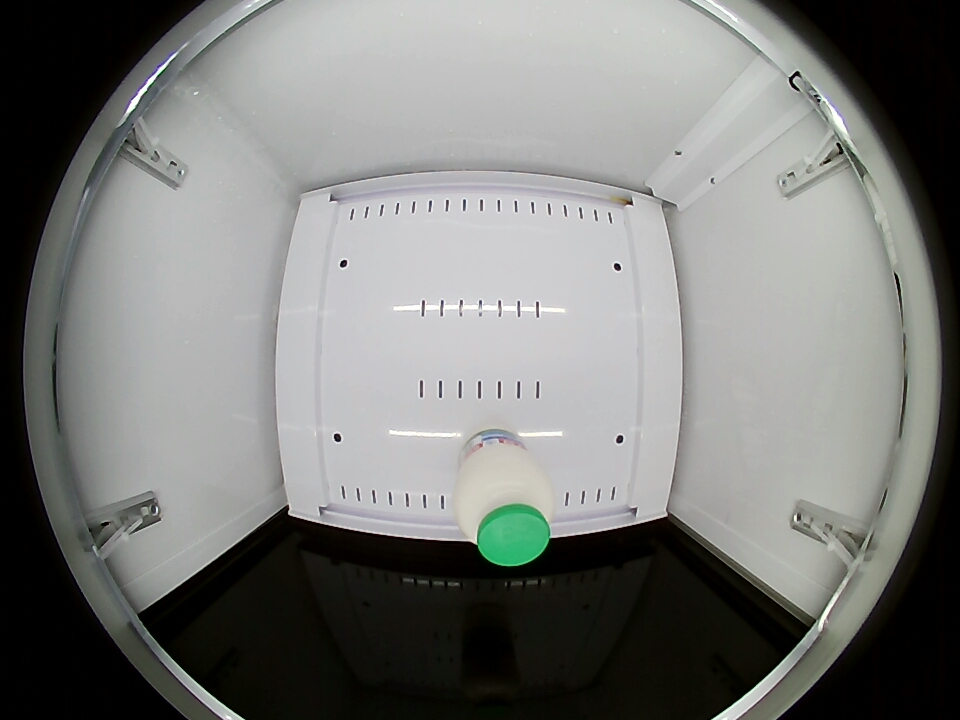liziyuan: (454, 442, 554, 567)
